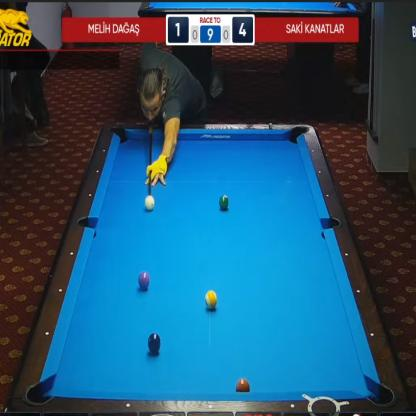Ball: (147, 333, 161, 355), (138, 271, 150, 291), (205, 290, 217, 310), (235, 378, 250, 392), (144, 195, 155, 211), (219, 195, 228, 210)
